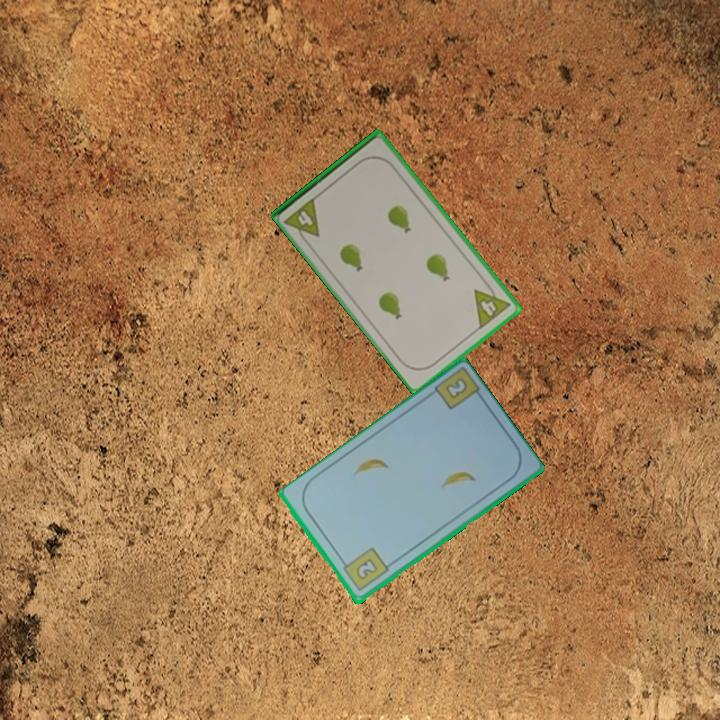2b: (338, 544, 391, 595), (442, 374, 470, 403)
4p: (470, 278, 513, 332), (281, 193, 323, 247)
